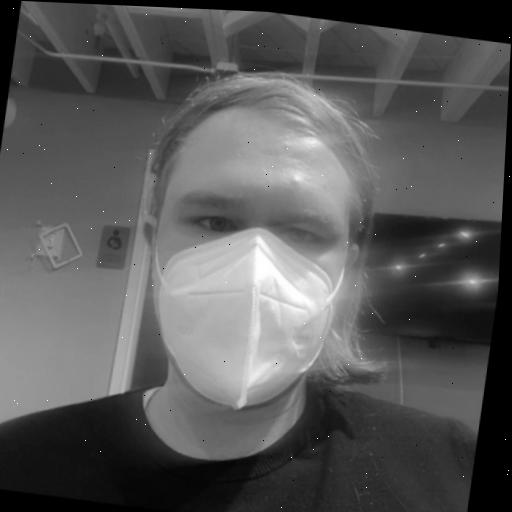mask: (69, 43, 431, 492)
